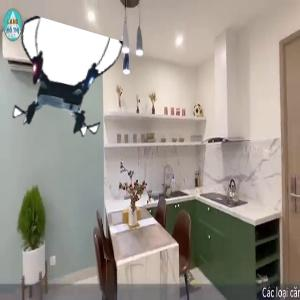drone: (8, 27, 120, 139)
